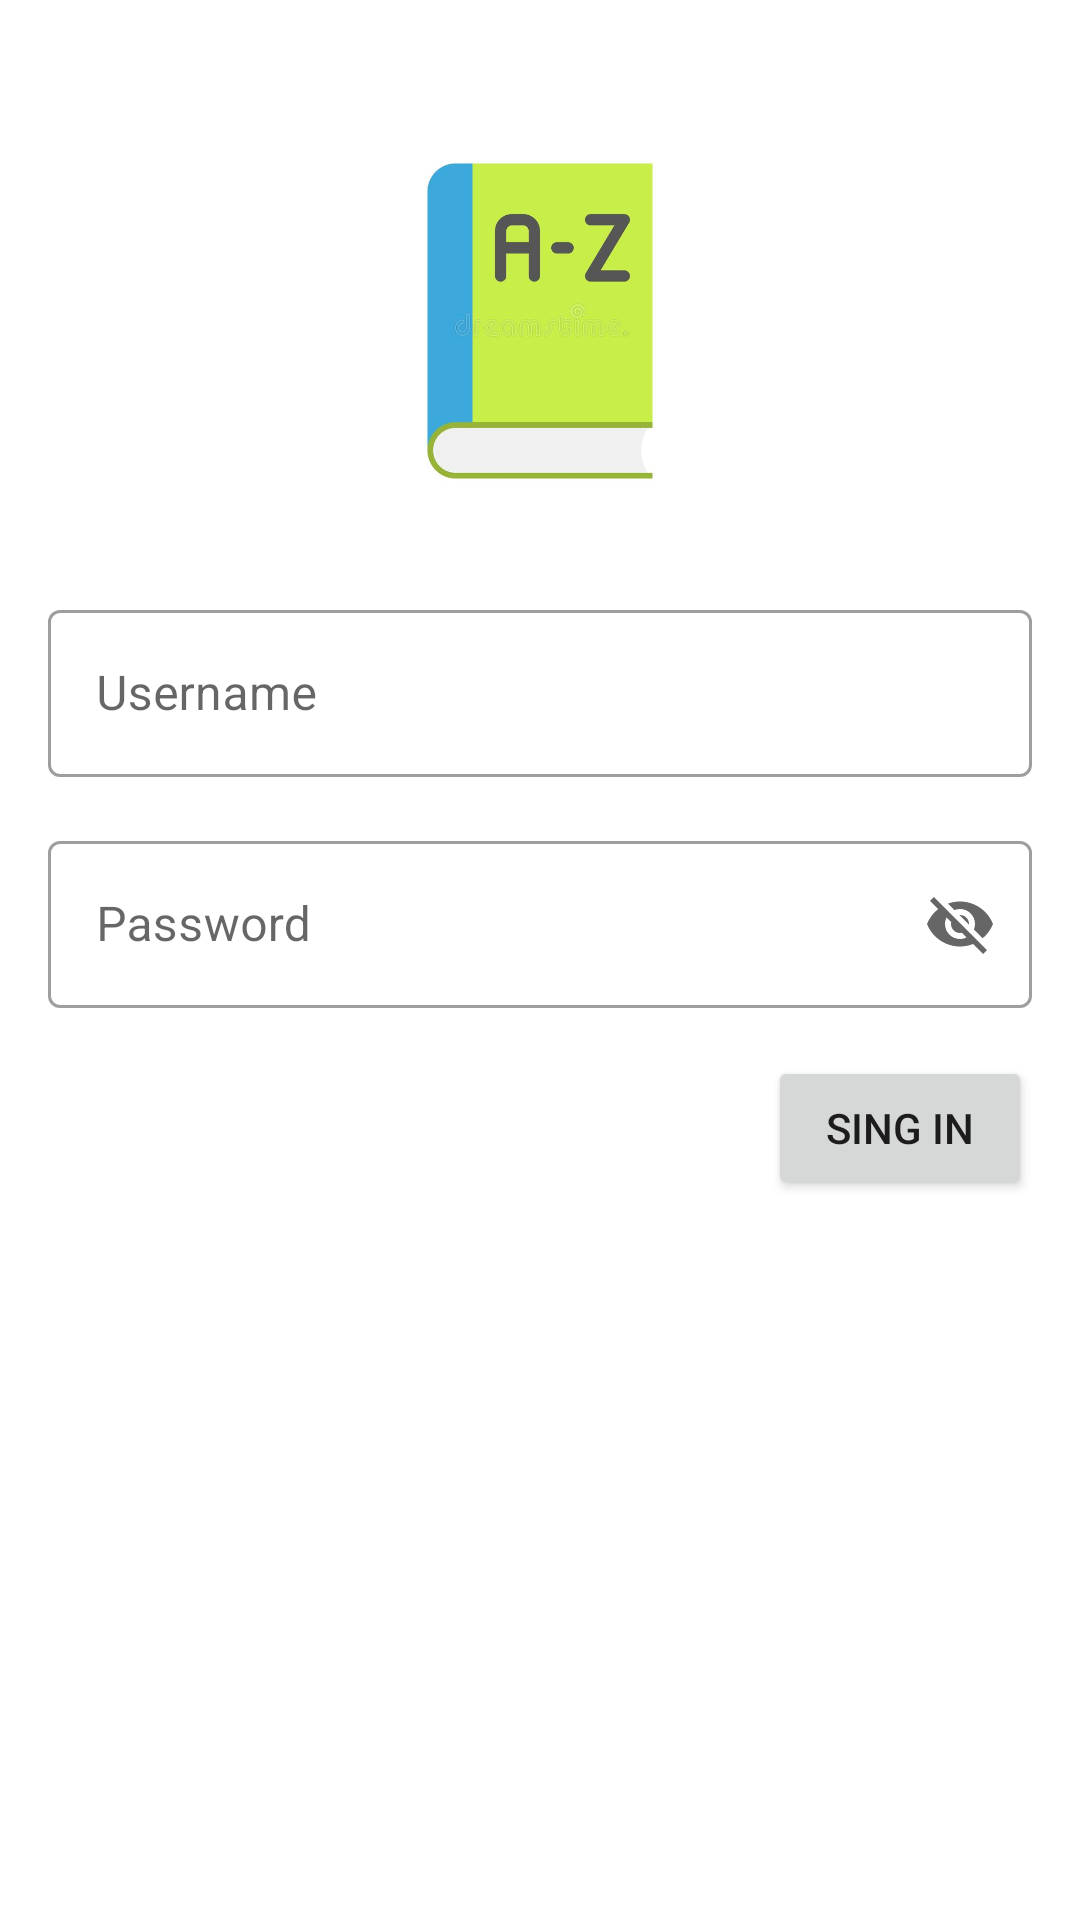

Icon click points for this 1080x1920 phone screenshot, format point (x, y):
dictionary: point (540, 320)
